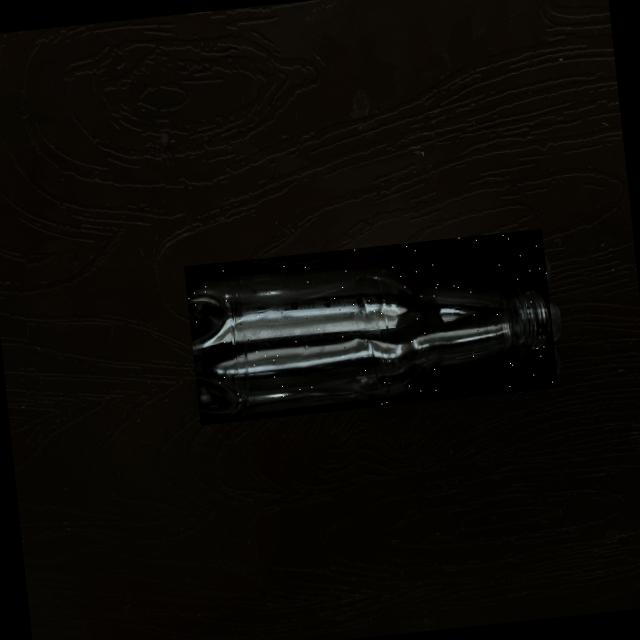PET_ClearBottle: (184, 227, 558, 424)
